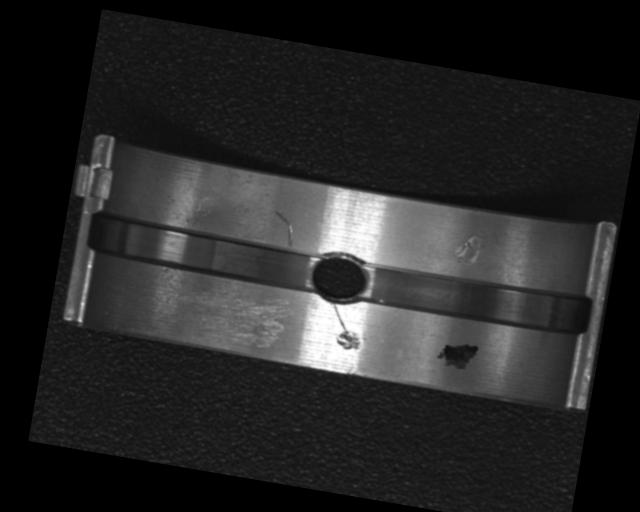blot: (435, 338, 480, 371)
bruise: (450, 228, 485, 267), (332, 327, 364, 351)
gap: (360, 256, 592, 341), (86, 209, 318, 293)
hole: (305, 245, 373, 311)
nick: (268, 210, 298, 247), (326, 301, 354, 335)
scratch: (171, 278, 289, 350)
